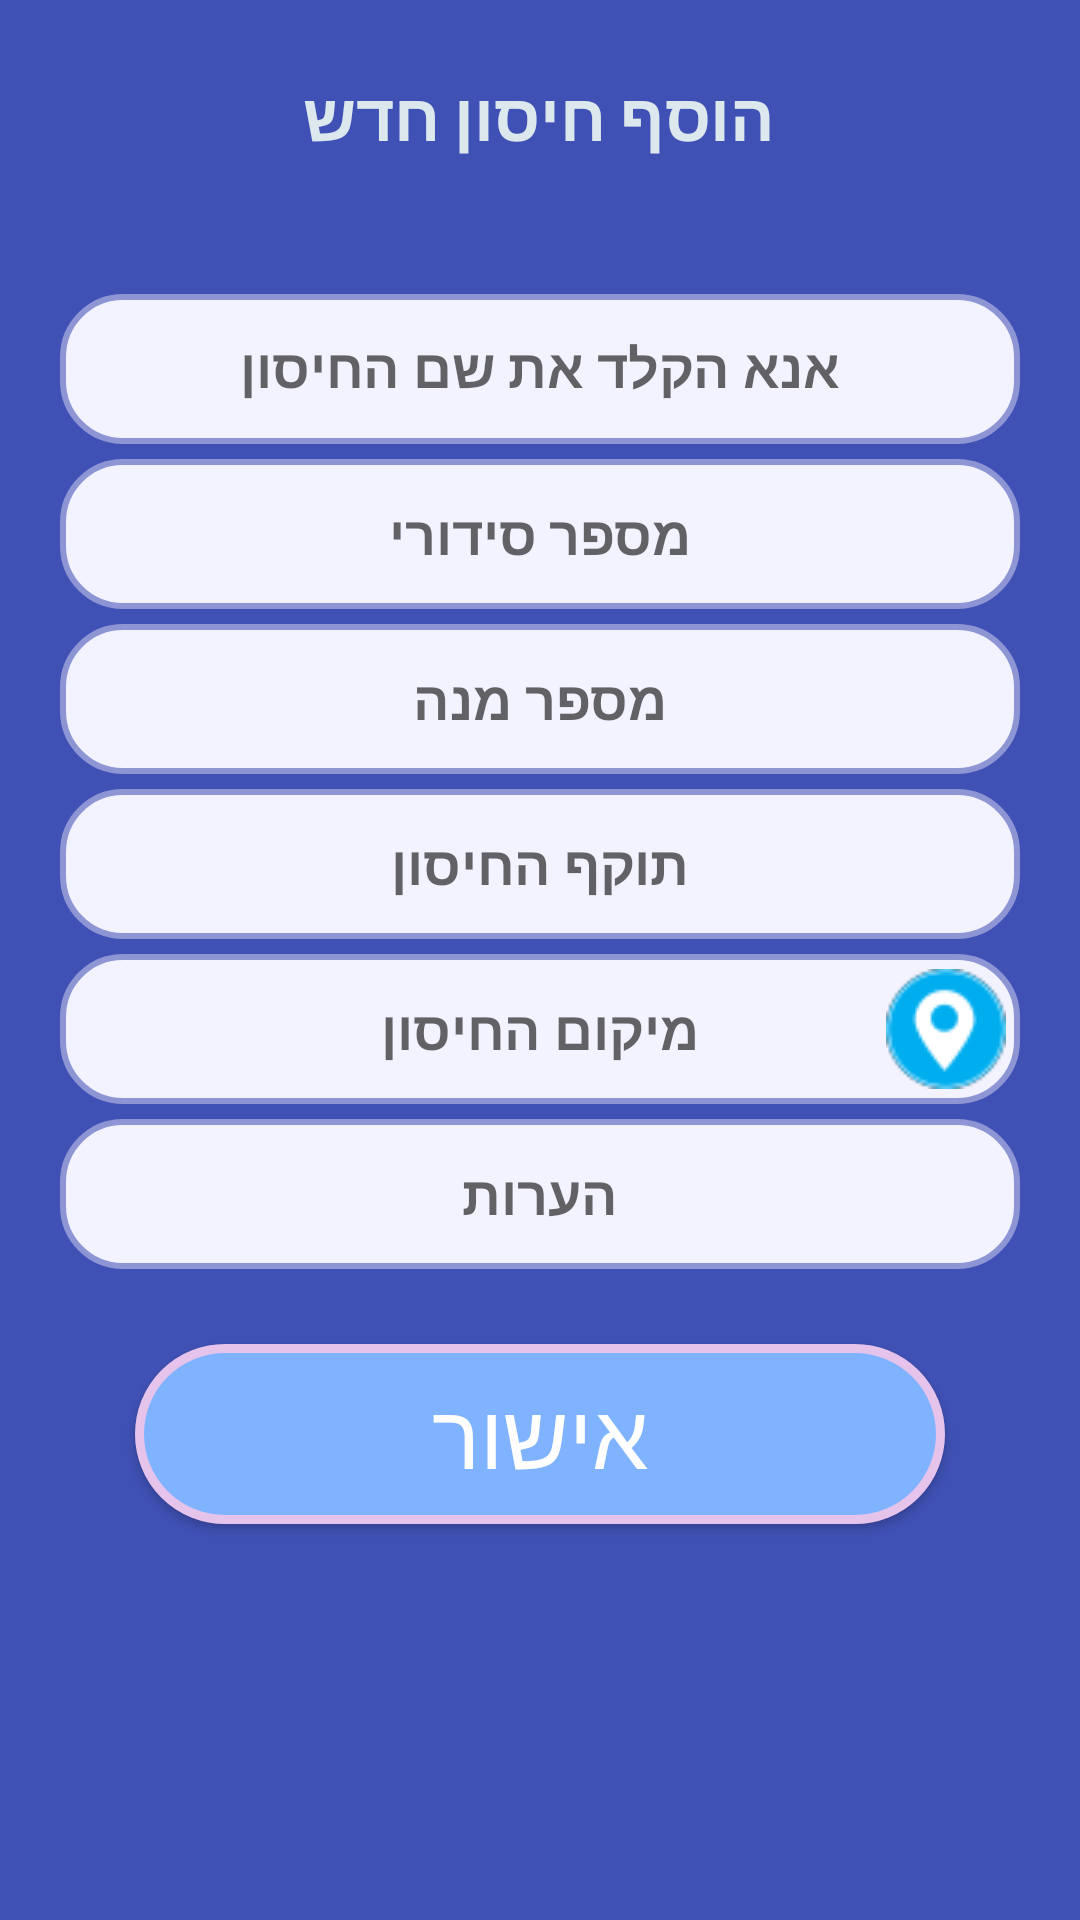

Screen size 1080*1920. Icon name, then its box in pixels as (x1, y1, x2, y2):
maps: (871, 954, 1020, 1104)
